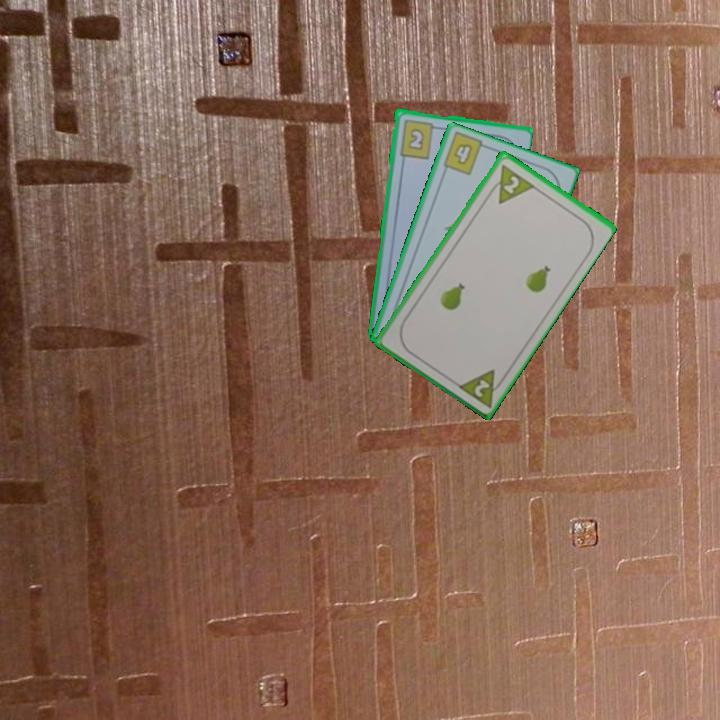2b: (396, 116, 442, 161)
2p: (453, 365, 509, 410), (500, 171, 522, 196)
4b: (450, 139, 475, 168)
